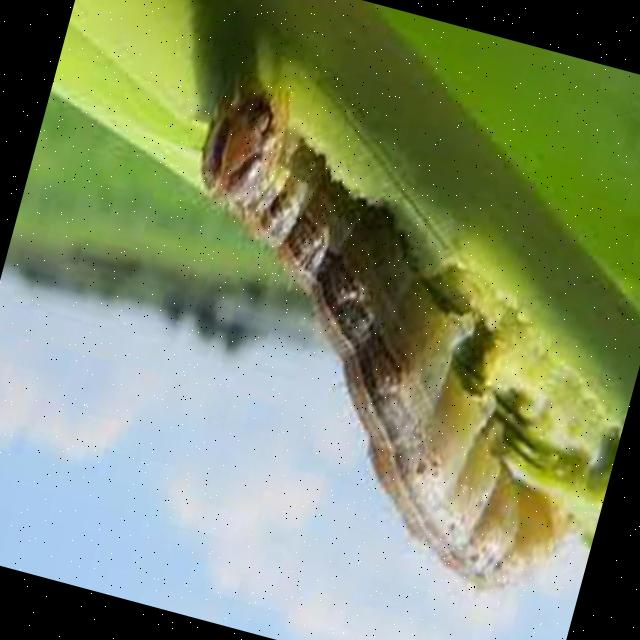worm: (105, 64, 640, 615)
